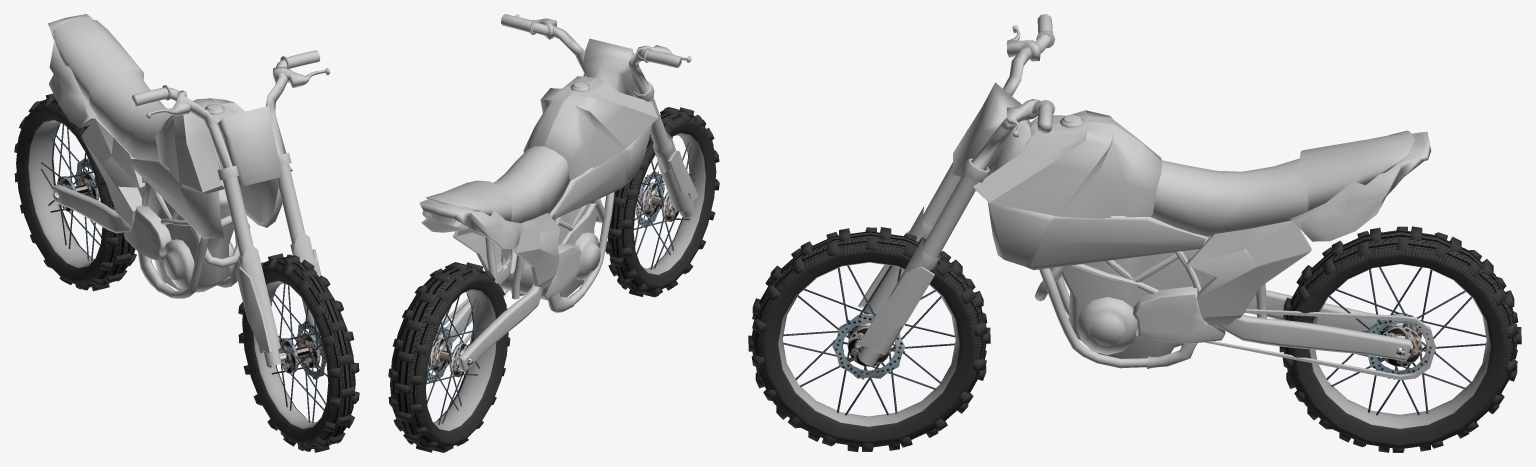
The model's file is bike05.fbx.
3 renders of one model, left to right at view 1: azimuth 30°, elevation 25°; view 2: azimuth 150°, elevation 25°; view 3: azimuth 270°, elevation 25°, orthographic. The views are drawn at different scales.
Parts seen in each view (by area): view 1: Tyre, Tyre1, polySurface579, polySurface576, polySurface552, polySurface604, polySurface603, polySurface578, polySurface547, bike06, polySurface564, polySurface594 (+15 smaller); view 2: Tyre1, Tyre, polySurface576, polySurface579, polySurface603, polySurface578, polySurface604, polySurface552, polySurface568, polySurface594, polySurface545, bike06 (+13 smaller); view 3: Tyre1, Tyre, polySurface579, polySurface576, polySurface584, polySurface583, polySurface551, polySurface578, polySurface569, polySurface550, polySurface552, polySurface549 (+9 smaller).
Part boxes in pixels (bbox=[...]): Tyre: bbox=[238, 253, 359, 452]; Tyre1: bbox=[14, 93, 136, 291]; polySurface579: bbox=[53, 19, 171, 160]; polySurface576: bbox=[155, 98, 292, 193]; polySurface552: bbox=[217, 106, 282, 185]; polySurface604: bbox=[81, 118, 145, 230]; polySurface603: bbox=[129, 159, 223, 238]; polySurface578: bbox=[48, 14, 97, 127]; polySurface547: bbox=[141, 177, 228, 292]; bike06: bbox=[169, 59, 287, 169]; polySurface564: bbox=[217, 165, 281, 366]; polySurface594: bbox=[123, 205, 171, 261]; Tyre1: bbox=[388, 262, 510, 452]; Tyre: bbox=[605, 107, 719, 297]; polySurface576: bbox=[523, 76, 657, 180]; polySurface579: bbox=[425, 146, 570, 223]; polySurface603: bbox=[550, 124, 652, 219]; polySurface578: bbox=[419, 199, 523, 249]; polySurface604: bbox=[513, 213, 560, 289]; polySurface552: bbox=[583, 38, 640, 96]; polySurface568: bbox=[458, 283, 542, 371]; polySurface594: bbox=[520, 243, 581, 299]; polySurface545: bbox=[548, 192, 614, 312]; bike06: bbox=[532, 23, 649, 94]; Tyre1: bbox=[1279, 226, 1521, 452]; Tyre: bbox=[748, 227, 990, 452]; polySurface579: bbox=[1150, 130, 1414, 236]; polySurface576: bbox=[973, 110, 1161, 218]; polySurface584: bbox=[988, 202, 1207, 270]; polySurface583: bbox=[1187, 220, 1311, 325]; polySurface551: bbox=[1060, 235, 1210, 358]; polySurface578: bbox=[1290, 131, 1431, 241]; polySurface569: bbox=[1216, 315, 1411, 361]; polySurface550: bbox=[1133, 286, 1225, 343]; polySurface552: bbox=[953, 82, 1031, 176]; polySurface549: bbox=[1077, 297, 1137, 355].
Size of the model in its own units: 9.38 by 15.63 by 28.56.
